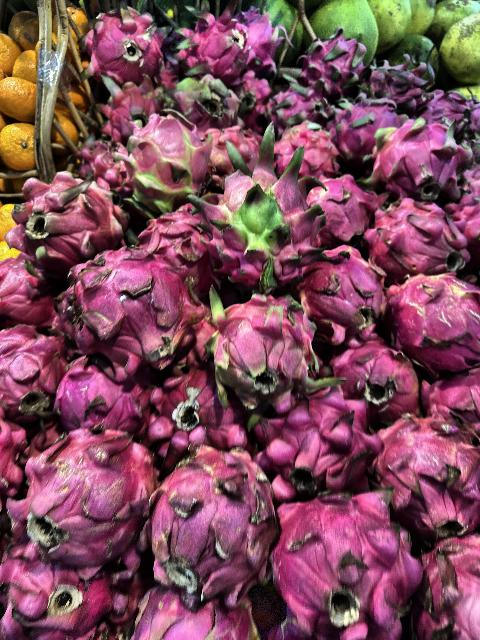buah-naga-belum-matang: (193, 140, 325, 276), (201, 280, 325, 402), (390, 272, 480, 371), (128, 115, 214, 208)
buah-naga-matang: (270, 489, 418, 635), (156, 447, 280, 603), (50, 248, 200, 368), (25, 422, 154, 560), (252, 391, 376, 497), (374, 408, 480, 530), (0, 538, 114, 640), (8, 168, 128, 254), (126, 572, 260, 640), (55, 348, 150, 442), (148, 368, 242, 462), (372, 200, 476, 282), (332, 334, 422, 420), (306, 248, 386, 340), (412, 534, 480, 632), (0, 321, 70, 414), (308, 171, 382, 245), (90, 8, 162, 80), (0, 254, 64, 330), (163, 74, 246, 132), (330, 92, 400, 158), (304, 22, 368, 92), (186, 12, 252, 78), (416, 368, 480, 430), (134, 207, 205, 257), (274, 122, 342, 174), (363, 58, 431, 108), (92, 84, 156, 130), (266, 84, 326, 128)
